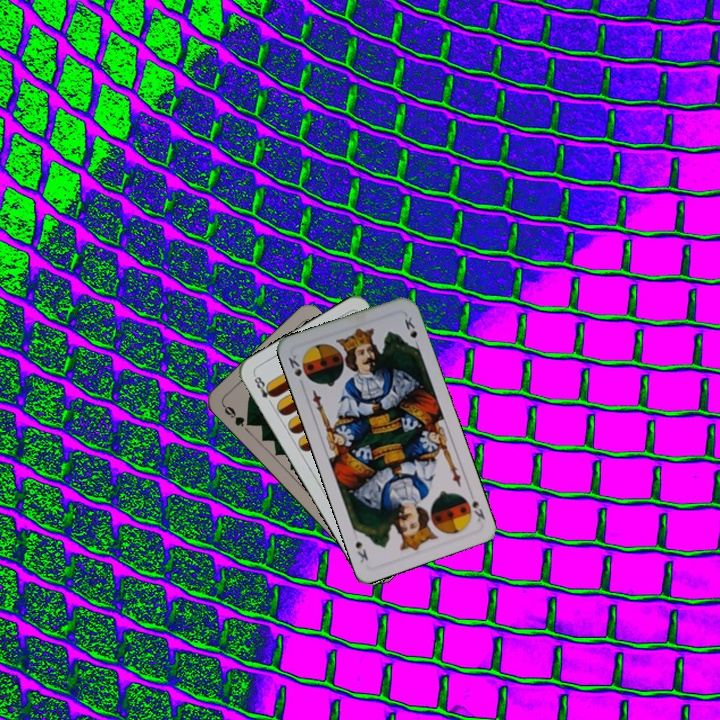E8: (250, 371, 278, 408)
G9: (219, 401, 255, 429)
SK: (460, 487, 488, 524), (284, 351, 304, 379)
